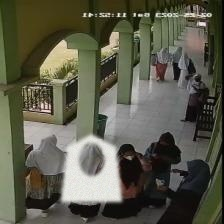Mukena: (61, 133, 121, 202)
